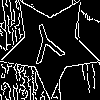Y: (25, 19, 69, 73)
